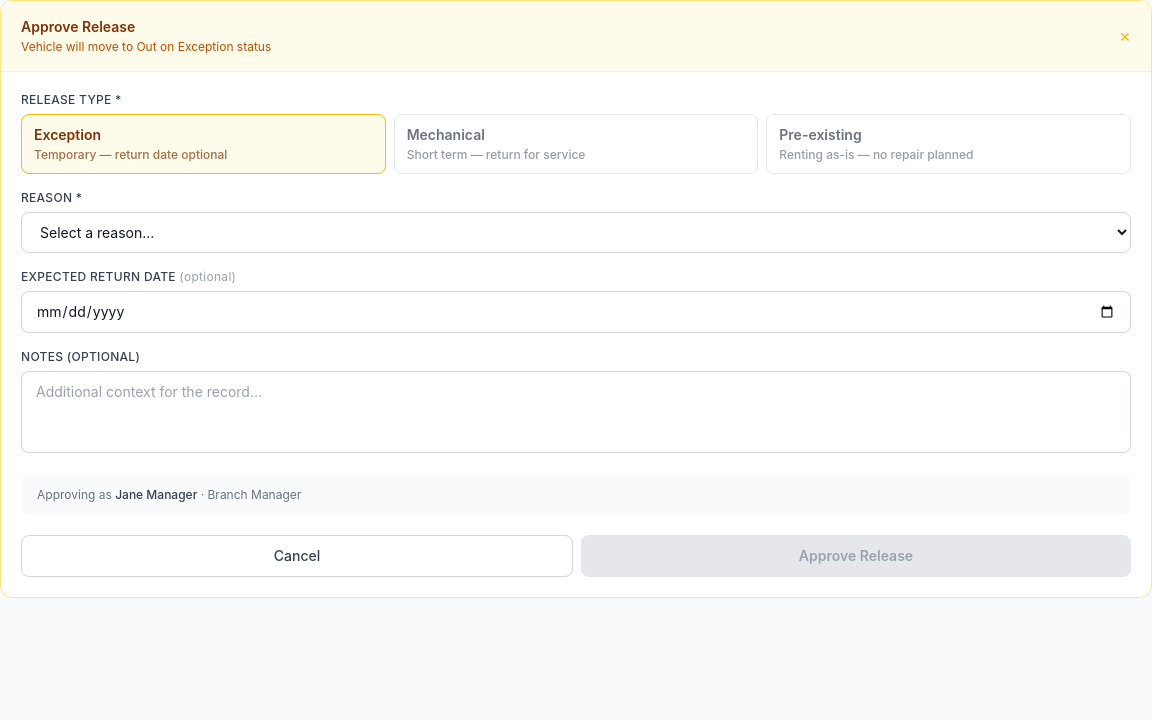
Test: ReleaseForm — mechanical path › switches to mechanical reasons when Mechanical tab is selected
Click the button "Mechanical Short term — return for service".
click(576, 144)  # box [394, 114, 758, 174]
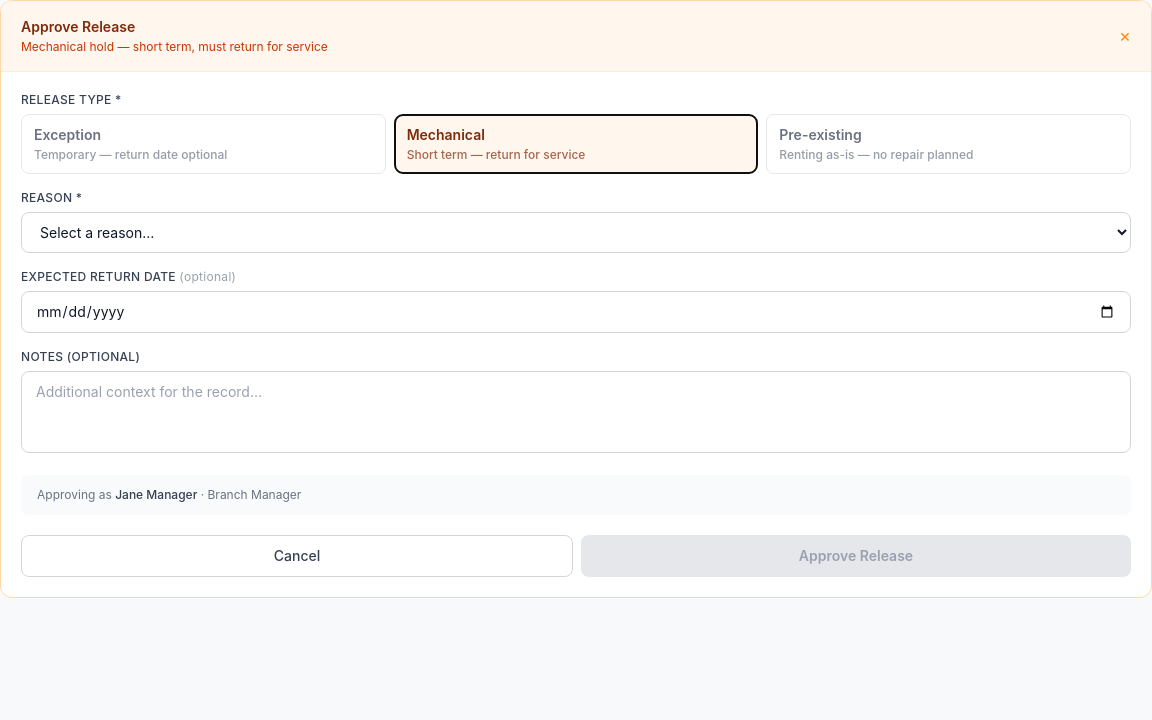
Expected: the text "Mechanical hold — short term, must return for service" is shown, [21, 39, 328, 55]
